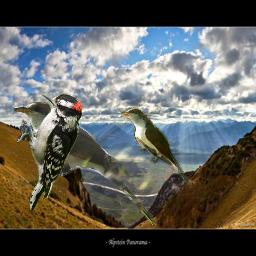Cuckoo: (13, 102, 156, 225), (121, 106, 192, 188)
Woodpecker: (17, 91, 82, 212)
